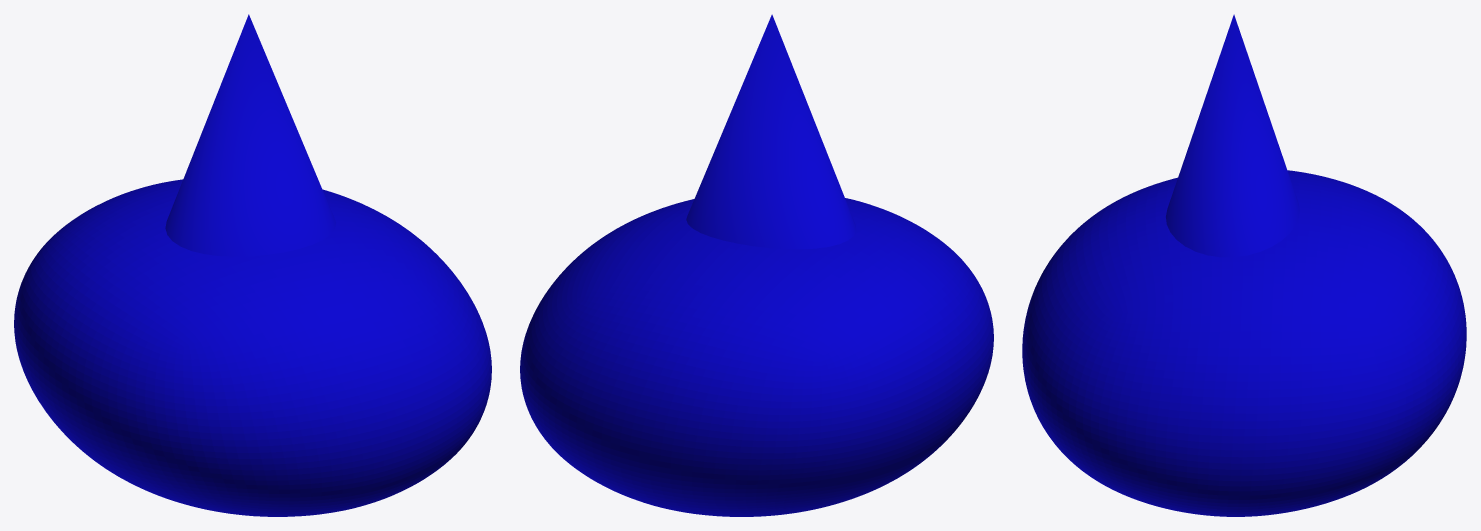
The model's file is Slime.obj.
3 views of the same model, side by side, from view 1: azimuth 30°, elevation 25°; view 2: azimuth 150°, elevation 25°; view 3: azimuth 270°, elevation 25° (orthographic). The views are drawn at different scales.
Parts seen in each view (by area): view 1: Cube, Cono; view 2: Cube, Cono; view 3: Cube, Cono.
Boxes of the visible parts, bbox=[...] form: Cube: bbox=[14, 179, 491, 516]; Cono: bbox=[165, 14, 335, 256]; Cube: bbox=[520, 198, 993, 516]; Cono: bbox=[686, 14, 856, 249]; Cube: bbox=[1022, 170, 1466, 516]; Cono: bbox=[1166, 14, 1299, 257].
Size of the model in its own units: 3.39 by 3.8 by 3.36.
